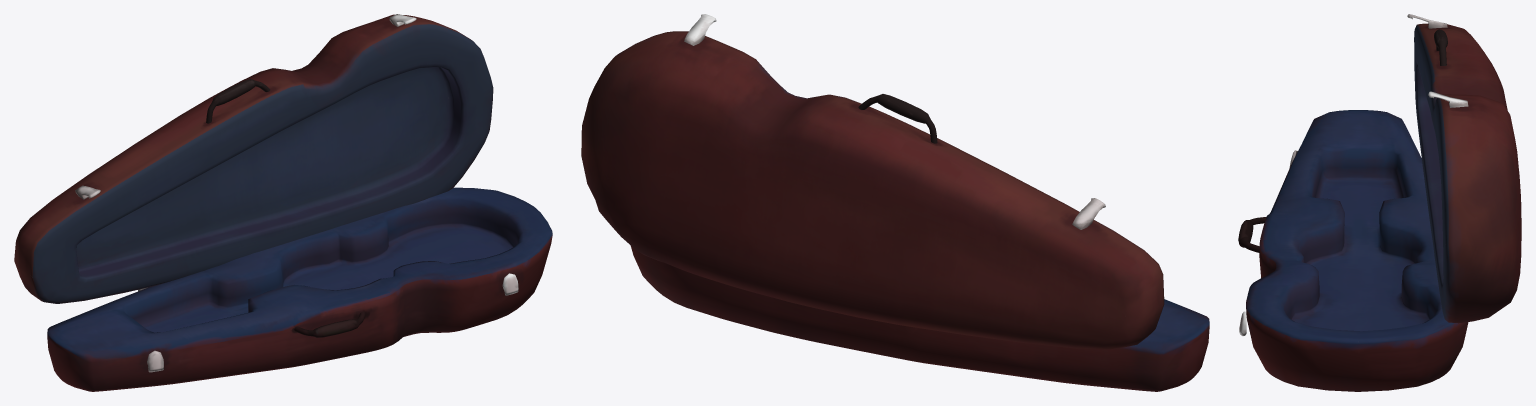
File: EstucheV2.fbx
The picture shows the model from 3 angles, left to right: view 1: azimuth 30°, elevation 25°; view 2: azimuth 150°, elevation 25°; view 3: azimuth 270°, elevation 25°; orthographic projection. The views are drawn at different scales.
Parts seen in each view (by area): view 1: Estuche2, Estuche1; view 2: Estuche2, Estuche1; view 3: Estuche1, Estuche2.
Boxes of the visible parts, x1,y1,x2,y2 form: Estuche2: [14, 14, 493, 303]; Estuche1: [47, 187, 552, 391]; Estuche2: [581, 14, 1164, 349]; Estuche1: [630, 245, 1209, 391]; Estuche1: [1238, 110, 1468, 391]; Estuche2: [1407, 14, 1521, 323].
Size of the model in its own units: 90.84 by 46.94 by 42.98.
